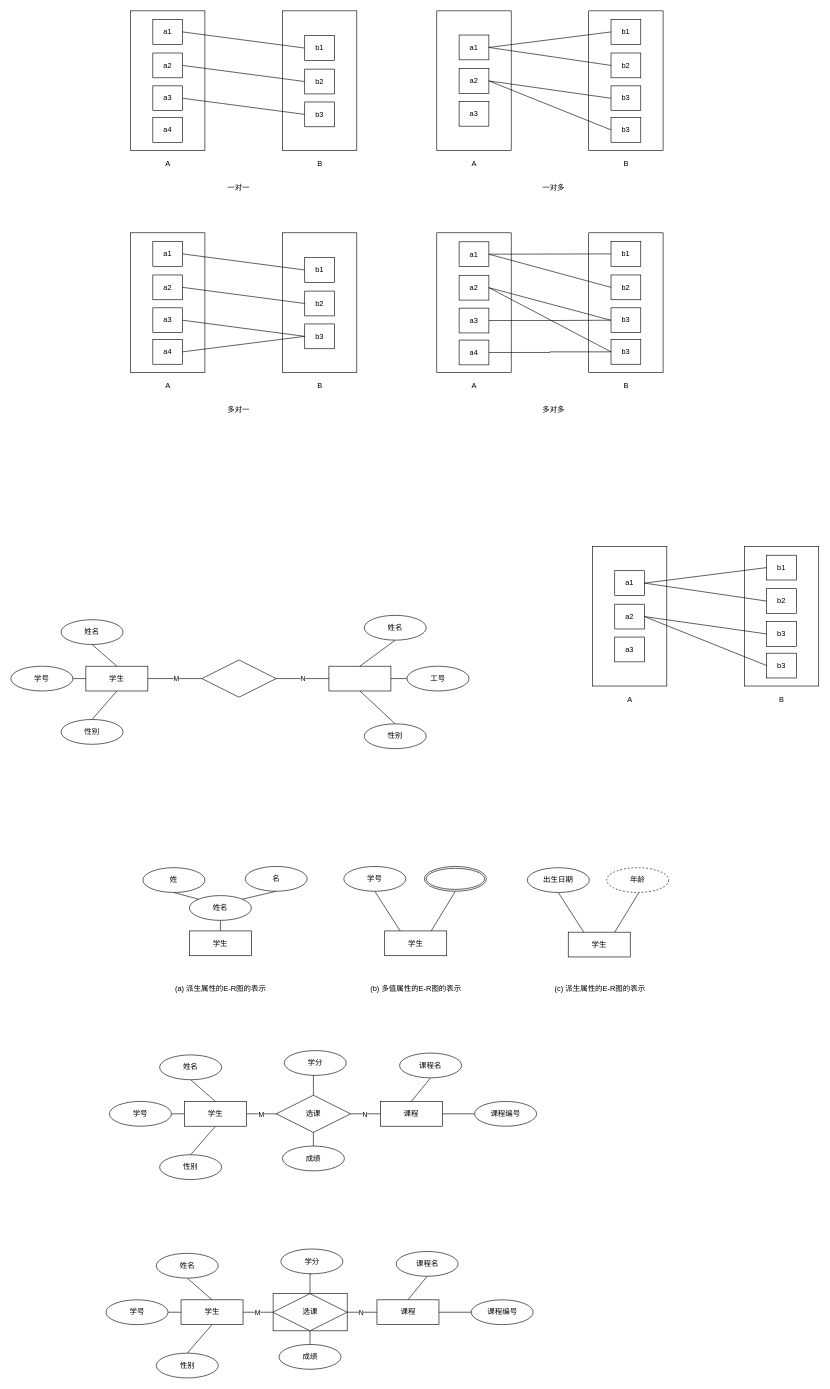
The diagram is 830 pixels wide and 1389 high, and some of its shapes have lost their labels. The shapes that lost their labels are listed below. From the top down, each one's centre as x and y in pixels, then its label:
At point 238,678: "教学".
At point 359,678: "老师".
At point 455,878: "手机号码".
